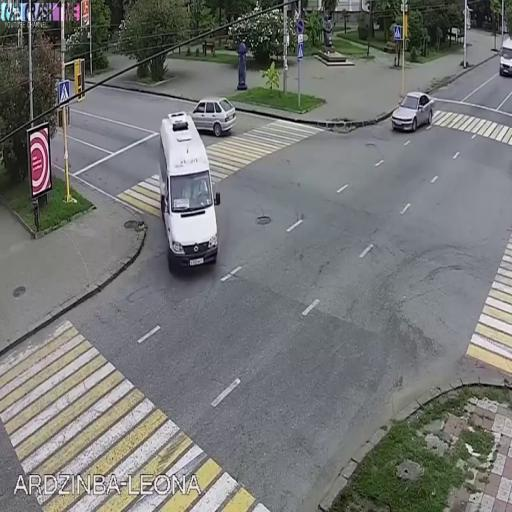小汽车: (161, 123, 219, 273), (388, 87, 433, 136), (190, 98, 236, 132), (499, 36, 512, 79)
